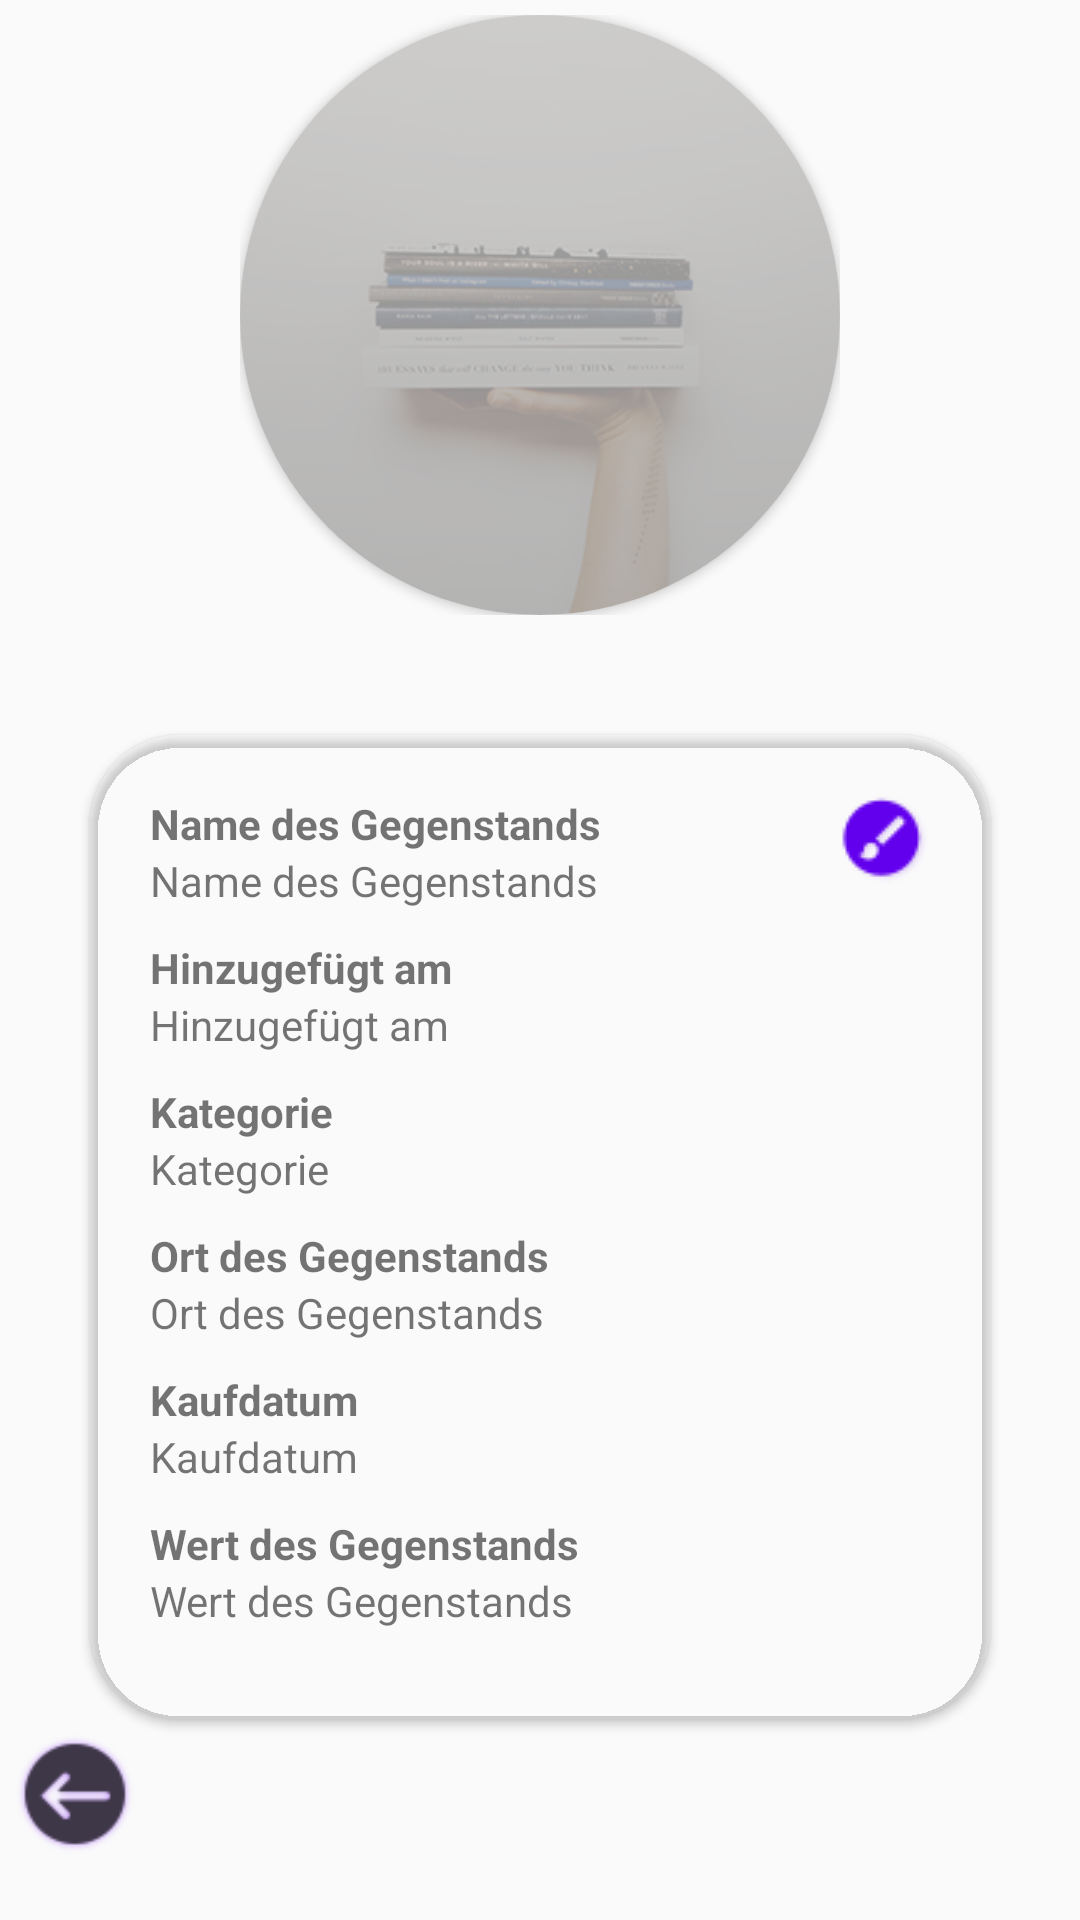

Screen size 1080x1920. Icon name, then its box in pixels as box=[x1, y1, x2, y2]:
back: box=[22, 1741, 128, 1847]
brush: box=[842, 798, 922, 877]
